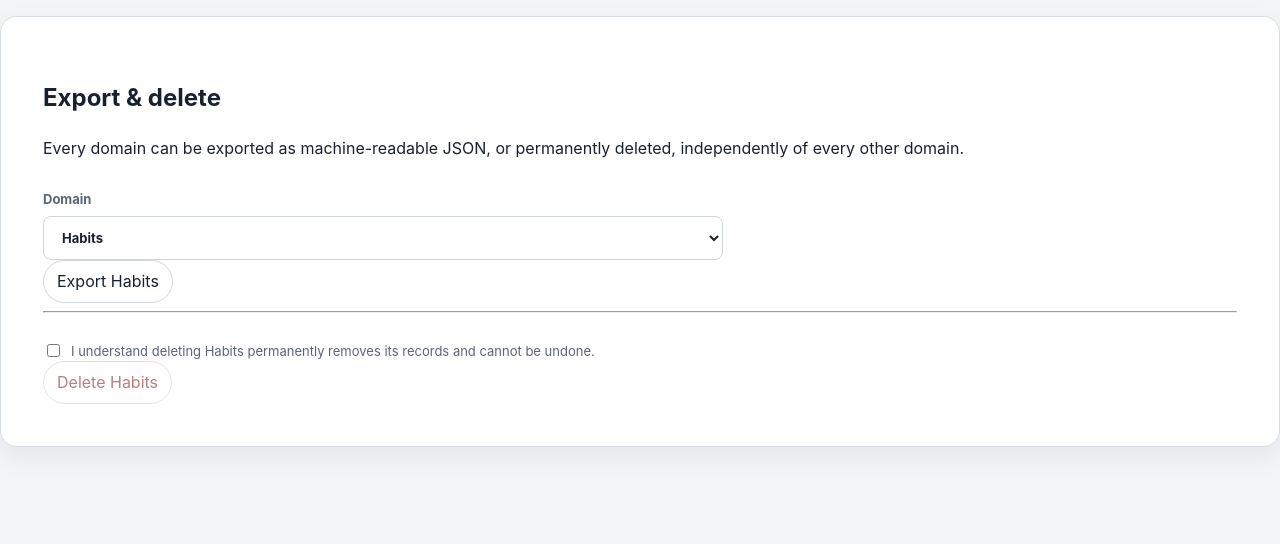
Test: ExportDeletePanel › surfaces an export failure as an alert
What coordinates should you click on to do the following:
click the button "Export Habits"
I would click on:
 (108, 281)
Its box is [43,260,173,303].
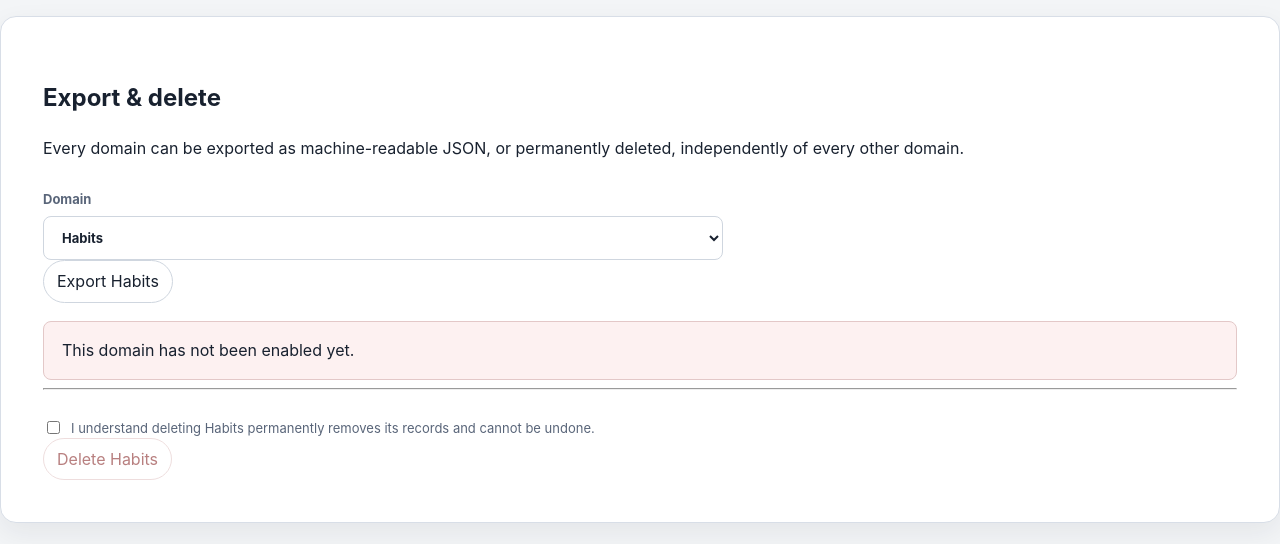
Expected: the text "This domain has not been enabled yet." is shown, [43,321,1237,380]
